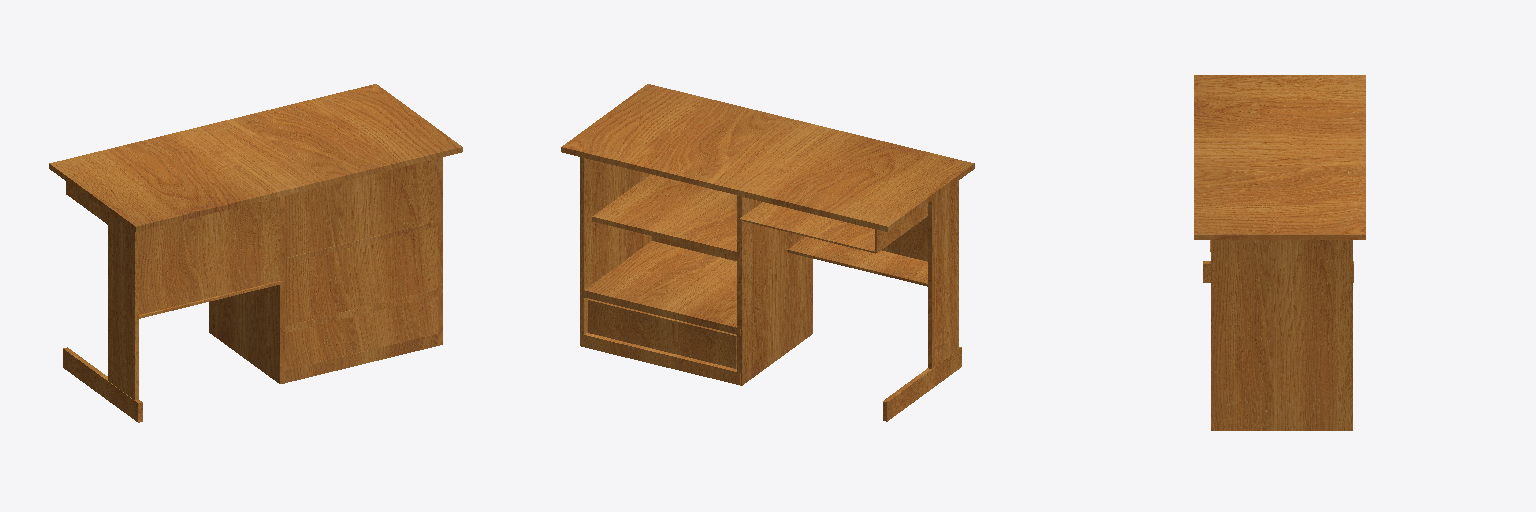
3 renders of one model, left to right at view 1: azimuth 30°, elevation 25°; view 2: azimuth 150°, elevation 25°; view 3: azimuth 270°, elevation 25°, orthographic.
Visible parts, largest first — view 1: Box01, Box09, Box16, Box02.Box03_Box02, Box11, Box04, Box10, Box05, Box02.Box03.001_Box02.001, Box06, Box12.Box13_Box12; view 2: Box01, Box02.Box03_Box02, Box05, Box06, Box02.Box03.001_Box02.001, Box11, Box08, Box14, Box07, Box04, Box10, Box16 (+1 smaller); view 3: Box01, Box02.Box03.001_Box02.001.
Boxes of the visible parts, x1=… form: Box01: x1=49, y1=84, x2=462, y2=231; Box09: x1=285, y1=159, x2=437, y2=369; Box16: x1=139, y1=197, x2=279, y2=314; Box02.Box03_Box02: x1=209, y1=196, x2=284, y2=383; Box11: x1=108, y1=212, x2=138, y2=399; Box04: x1=285, y1=333, x2=437, y2=382; Box10: x1=63, y1=347, x2=142, y2=422; Box05: x1=285, y1=289, x2=437, y2=332; Box02.Box03.001_Box02.001: x1=438, y1=157, x2=442, y2=345; Box06: x1=282, y1=221, x2=437, y2=263; Box12.Box13_Box12: x1=66, y1=182, x2=107, y2=224; Box01: x1=561, y1=84, x2=974, y2=231; Box02.Box03_Box02: x1=737, y1=195, x2=812, y2=385; Box05: x1=584, y1=241, x2=740, y2=335; Box06: x1=592, y1=174, x2=736, y2=256; Box02.Box03.001_Box02.001: x1=580, y1=157, x2=651, y2=346; Box11: x1=928, y1=181, x2=958, y2=368; Box08: x1=588, y1=299, x2=736, y2=368; Box14: x1=740, y1=202, x2=875, y2=253; Box07: x1=787, y1=237, x2=927, y2=286; Box04: x1=584, y1=333, x2=740, y2=385; Box10: x1=883, y1=347, x2=961, y2=421; Box16: x1=882, y1=216, x2=927, y2=261; Box01: x1=1194, y1=75, x2=1365, y2=239; Box02.Box03.001_Box02.001: x1=1211, y1=240, x2=1352, y2=430.
Size of the model in its own units: 13.26 by 7.81 by 6.07.
Materials: 2 (1 with a texture image).